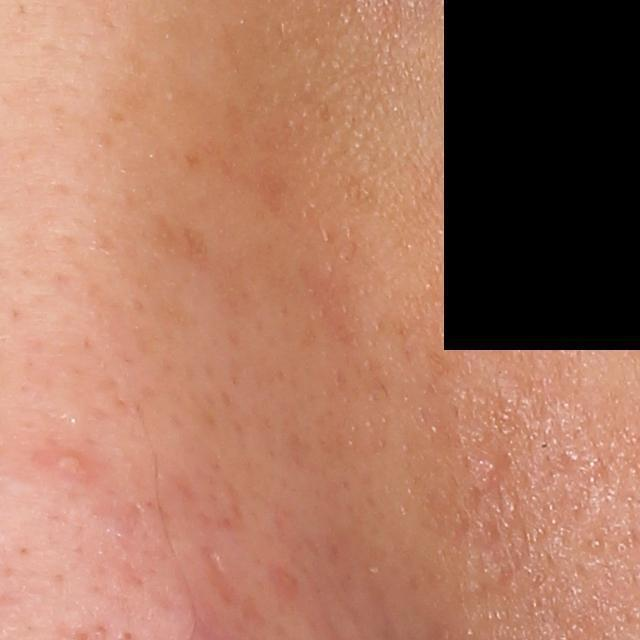pustule: (50, 450, 89, 480)
